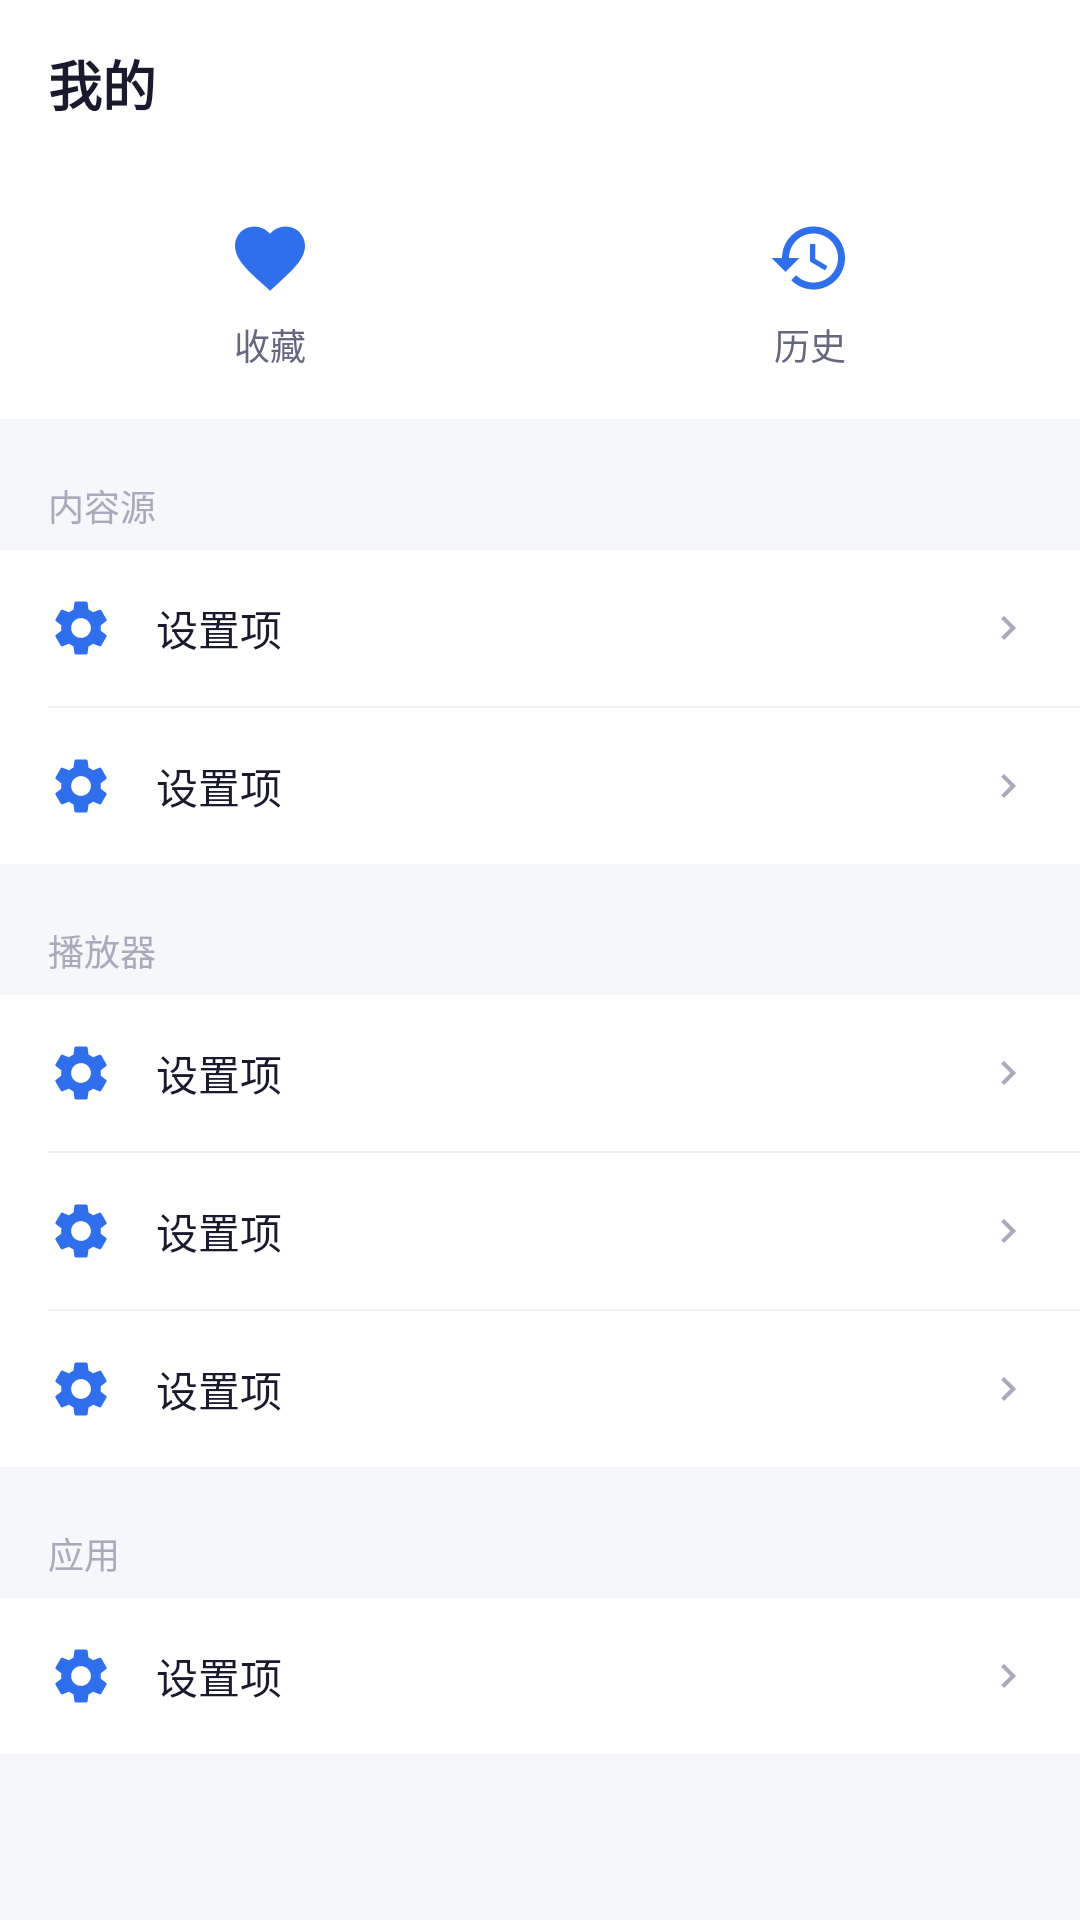

Named icons in this screenshot (1080px×1920px) and their centers, (x,y):
chevron right: (1008,628), (1008,786), (1008,1073), (1008,1231), (1008,1389), (1008,1676)
settings: (81,628), (81,786), (81,1073), (81,1231), (81,1389), (81,1676)
